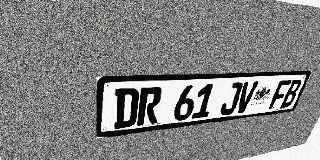1: (191, 84, 216, 119)
6: (173, 85, 198, 121)
B: (280, 79, 303, 108)
D: (113, 88, 140, 129)
F: (268, 80, 292, 109)
J: (219, 82, 244, 116)
R: (137, 86, 163, 126)
V: (234, 81, 258, 114)
